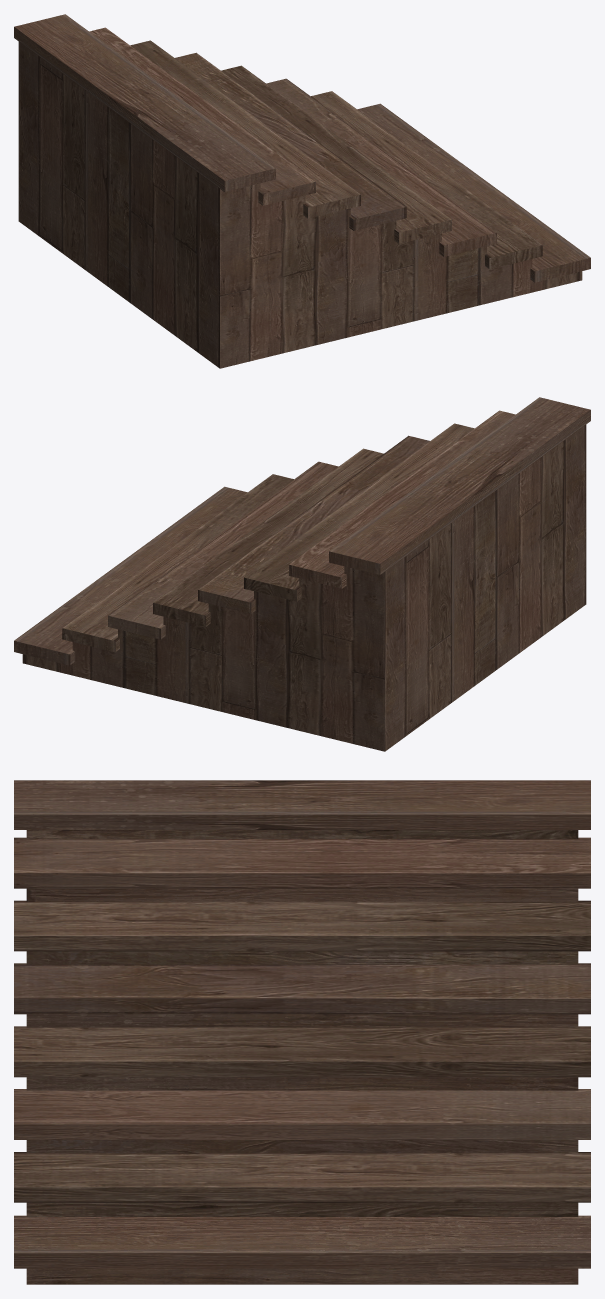
Rendered from bg_lut_lucastle_houseinstair01_sm_msj.FBX.
3 renders of one model, top to bottom at view 1: azimuth 30°, elevation 25°; view 2: azimuth 150°, elevation 25°; view 3: azimuth 270°, elevation 25°, orthographic. The views are drawn at different scales.
Parts seen in each view (by area): view 1: bg_lut_lucastle_houseinstair01_sm_msj; view 2: bg_lut_lucastle_houseinstair01_sm_msj; view 3: bg_lut_lucastle_houseinstair01_sm_msj.
Part boxes in pixels (x1,y1,x2,y2): bg_lut_lucastle_houseinstair01_sm_msj: [14, 14, 590, 368]; bg_lut_lucastle_houseinstair01_sm_msj: [14, 397, 590, 751]; bg_lut_lucastle_houseinstair01_sm_msj: [14, 780, 590, 1284].
Bounding box in the file's own units: 193 × 96.06 × 192.
